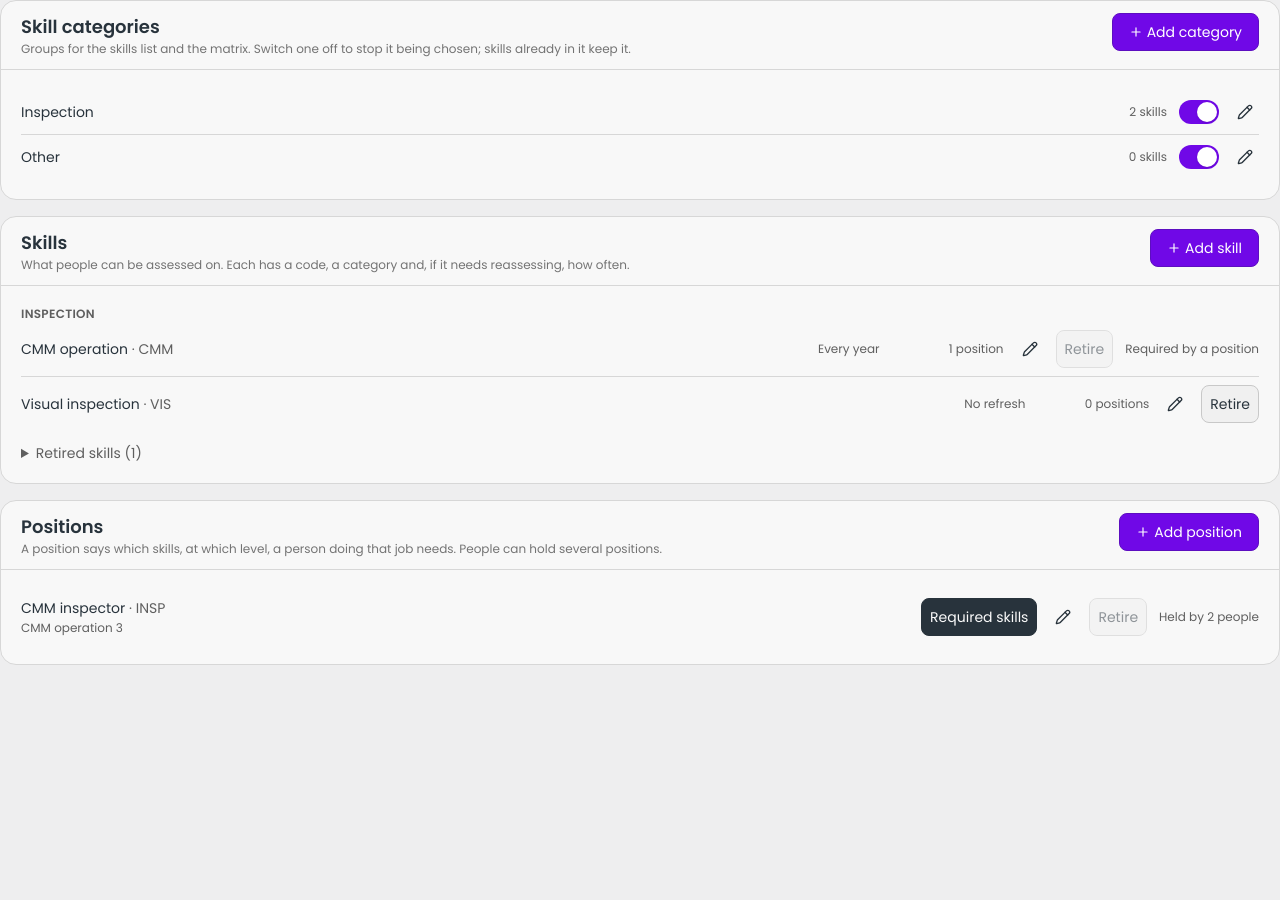
Test: Settings → Competence › refuses a refresh interval outside 1 to 120 before sending
Click the button "Add skill".
click(1204, 248)  # box [1150,229,1259,267]
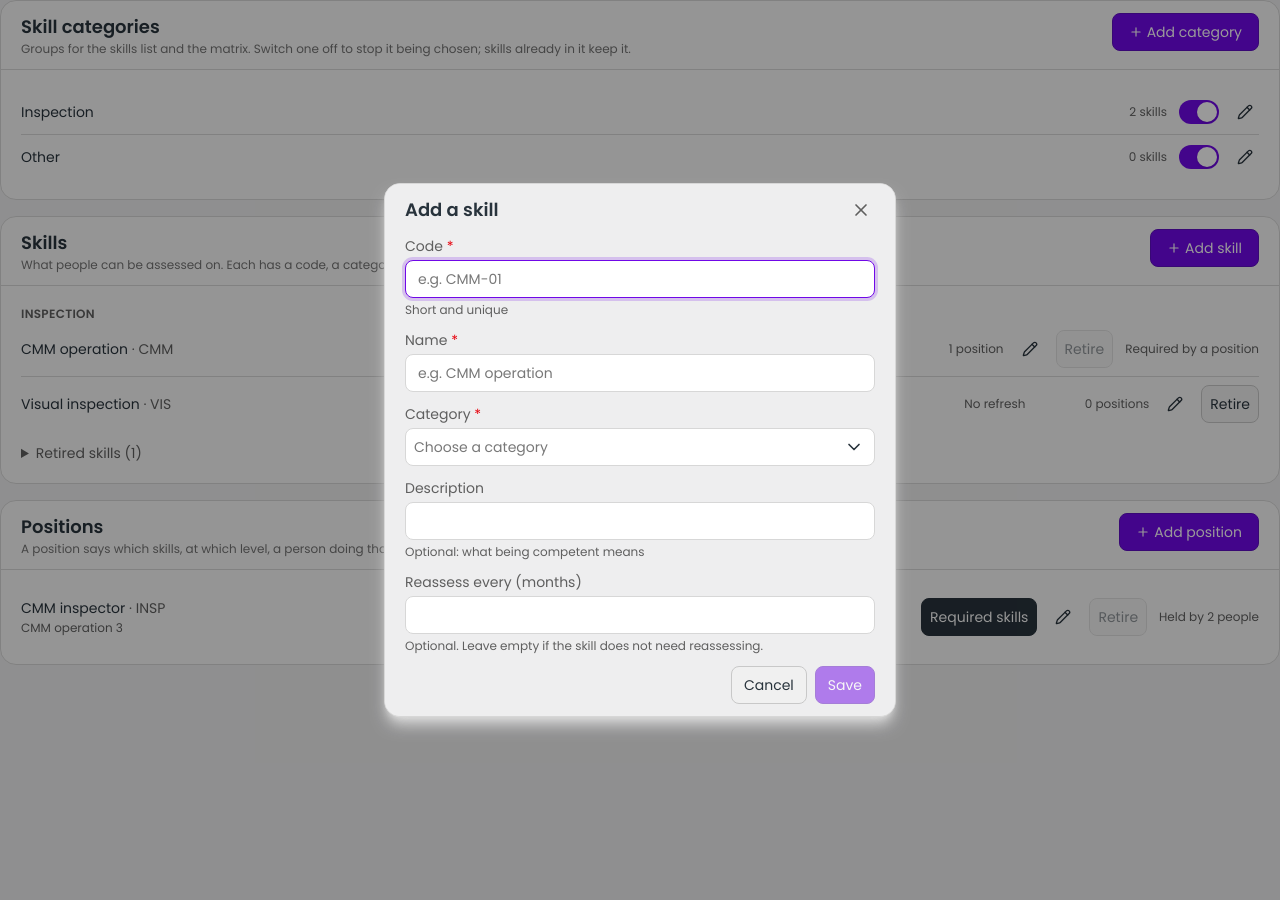
Type "500" into the number field labelled "Reassess every (months)".
click(640, 615); type("500")  # box [405,596,875,634]
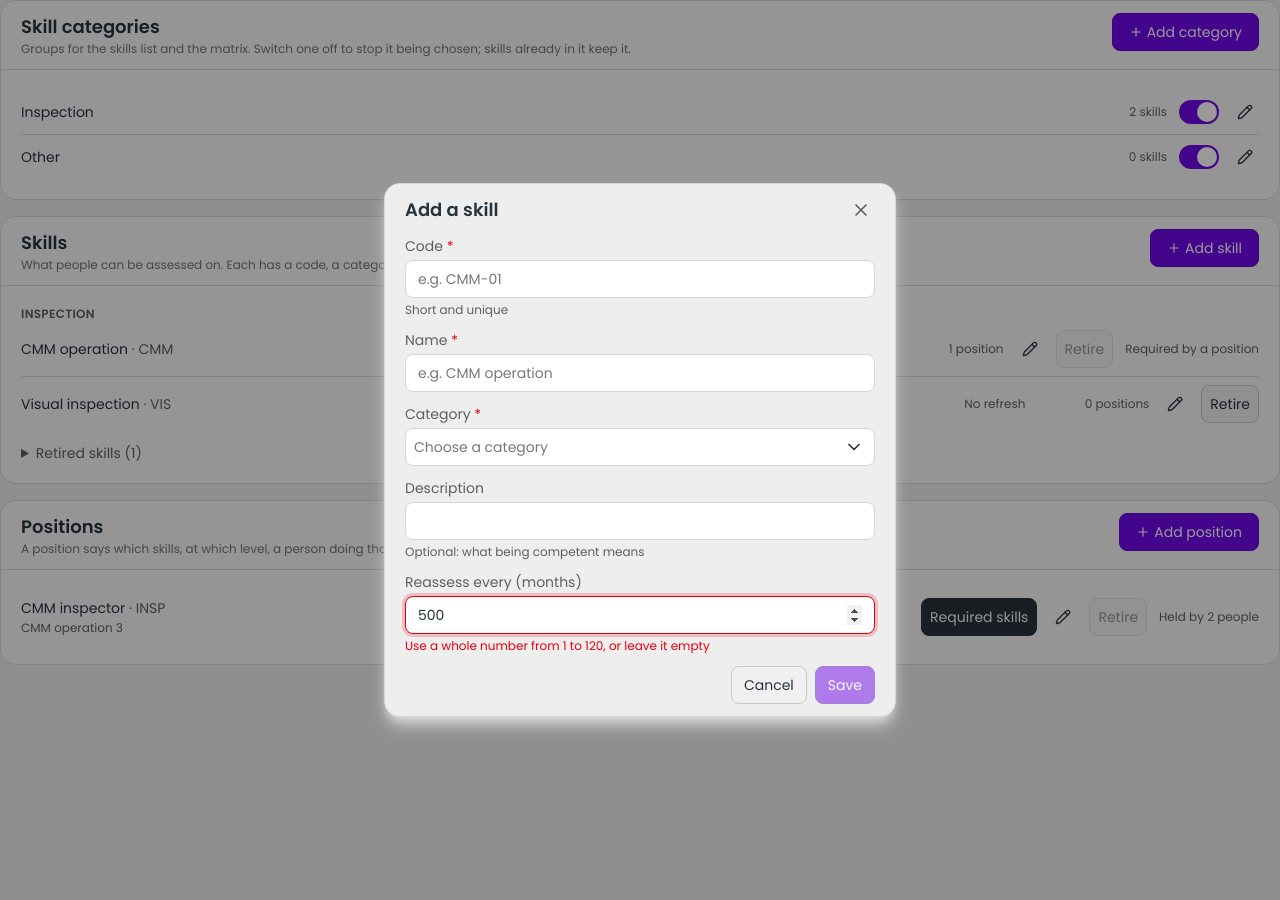
Check: the button "Save" is disabled, box [815,666,875,704]
Check: the text "Use a whole number from 1 to 120, or leave it empty" is shown, box [405,637,710,654]
